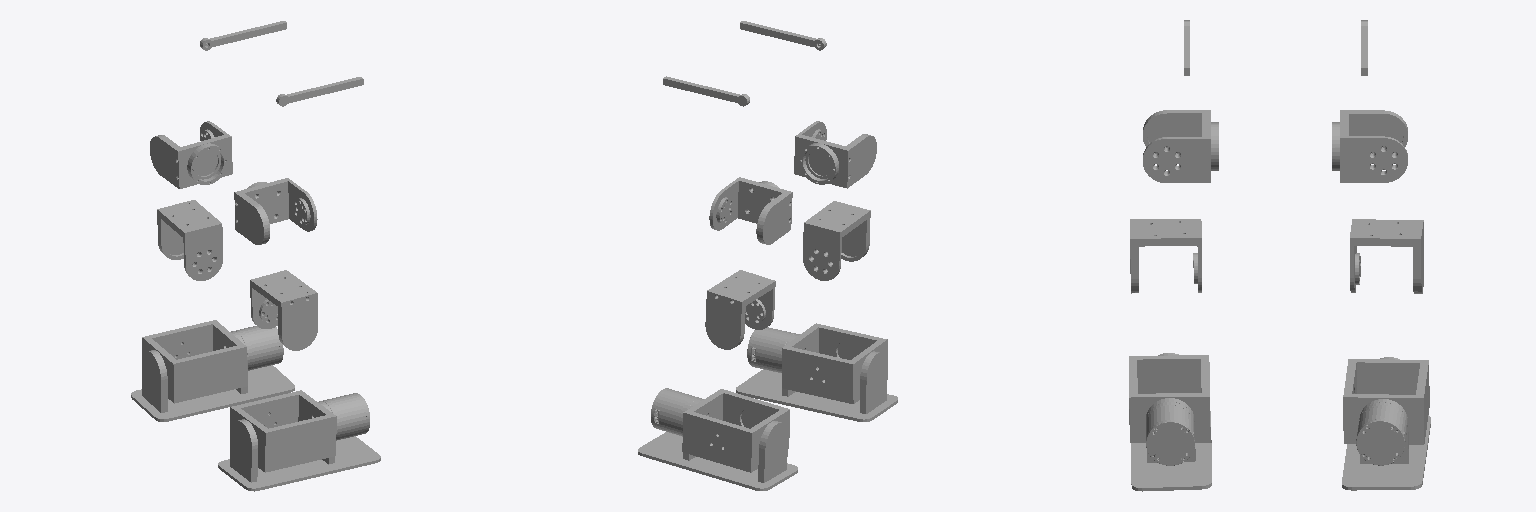
The robot description file, URDF, robot "123.SLDASM":
<?xml version="1.0" encoding="utf-8"?>
<!-- This URDF was automatically created by SolidWorks to URDF Exporter! Originally created by Stephen Brawner (brawner@gmail.com) 
     Commit Version: 1.6.0-4-g7f85cfe  Build Version: 1.6.7995.38578
     For more information, please see http://wiki.ros.org/sw_urdf_exporter -->
<robot
  name="123.SLDASM">
  <link
    name="base_link">
    <inertial>
      <origin
        xyz="0.00305344035948829 -0.00338745849691838 0.100965563427593"
        rpy="0 0 0" />
      <mass
        value="1.0657953 " />
      <inertia
        ixx=" 0.0041164"
        ixy="0.0002280"
        ixz="-0.0000224"
        iyy="0.0026705"
        iyz="-0.0000575"
        izz="0.0030287" />
    </inertial>
    <visual>
      <origin
        xyz="0 0 0"
        rpy="0 0 0" />
      <geometry>
        <mesh
          filename="package://123.SLDASM/meshes/base_link.STL" />
      </geometry>
      <material
        name="">
        <color
          rgba="0.698039215686274 0.698039215686274 0.698039215686274 1" />
      </material>
    </visual>
    <collision>
      <origin
        xyz="0 0 0"
        rpy="0 0 0" />
      <geometry>
        <mesh
          filename="package://123.SLDASM/meshes/base_link.STL" />
      </geometry>
    </collision>
  </link>
  <link
    name="r_leg_pitch_link">
    <inertial>
      <origin
        xyz="-0.00155494227550507 2.67600506309584E-07 0.0254526954337937"
        rpy="0 0 0" />
      <mass
        value="0.0410755" />
      <inertia
        ixx="0.0000214"
        ixy="0.0000000"
        ixz="0.0000003"
        iyy=" 0.0000398"
        iyz="0.0000000"
        izz="0.0000327" />
    </inertial>
    <visual>
      <origin
        xyz="0 0 0"
        rpy="0 0 0" />
      <geometry>
        <mesh
          filename="package://123.SLDASM/meshes/r_leg_pitch_link.STL" />
      </geometry>
      <material
        name="">
        <color
          rgba="0.698039215686274 0.698039215686274 0.698039215686274 1" />
      </material>
    </visual>
    <collision>
      <origin
        xyz="0 0 0"
        rpy="0 0 0" />
      <geometry>
        <mesh
          filename="package://123.SLDASM/meshes/r_leg_pitch_link.STL" />
      </geometry>
    </collision>
  </link>
  <joint
    name="r_leg_pitch_joint"
    type="revolute">
    <origin
      xyz="0 0.0524999999999998 0.0229999999999997"
      rpy="-1.5707963267949 -0.0393008918408269 0" />
    <parent
      link="base_link" />
    <child
      link="r_leg_pitch_link" />
    <axis
      xyz="0 0 1" />
    <limit
      lower="-0.785"
      upper="0.785"
      effort="5"
      velocity="10" />
  </joint>
  <link
    name="r_leg_roll_link">
    <inertial>
      <origin
        xyz="0.0271633882398319 0.000274769439934486 -0.0198820061824354"
        rpy="0 0 0" />
      <mass
        value="0.0875820 " />
      <inertia
        ixx="0.0000394"
        ixy="-0.0000003"
        ixz=" 0.0000040"
        iyy=" 0.0000834"
        iyz="0.0000001"
        izz="0.0000845" />
    </inertial>
    <visual>
      <origin
        xyz="0 0 0"
        rpy="0 0 0" />
      <geometry>
        <mesh
          filename="package://123.SLDASM/meshes/r_leg_roll_link.STL" />
      </geometry>
      <material
        name="">
        <color
          rgba="0.698039215686274 0.698039215686274 0.698039215686274 1" />
      </material>
    </visual>
    <collision>
      <origin
        xyz="0 0 0"
        rpy="0 0 0" />
      <geometry>
        <mesh
          filename="package://123.SLDASM/meshes/r_leg_roll_link.STL" />
      </geometry>
    </collision>
  </link>
  <joint
    name="r_leg_roll_joint"
    type="revolute">
    <origin
      xyz="0.0235499999995432 0 0.0495000000006334"
      rpy="1.5707963267949 0 1.5707963267949" />
    <parent
      link="r_leg_pitch_link" />
    <child
      link="r_leg_roll_link" />
    <axis
      xyz="0 0 1" />
    <limit
      lower="-0.1"
      upper="0.785"
      effort="5"
      velocity="10" />
  </joint>
  <link
    name="r_leg_yaw_link">
    <inertial>
      <origin
        xyz="2.93685066043992E-07 -0.00360651118457667 -0.0629558066513985"
        rpy="0 0 0" />
      <mass
        value="0.0374273" />
      <inertia
        ixx=" 0.0000373"
        ixy=" 0.0000000"
        ixz="  0.0000000"
        iyy=" 0.0000189"
        iyz=" -0.0000002"
        izz=" 0.0000311" />
    </inertial>
    <visual>
      <origin
        xyz="0 0 0"
        rpy="0 0 0" />
      <geometry>
        <mesh
          filename="package://123.SLDASM/meshes/r_leg_yaw_link.STL" />
      </geometry>
      <material
        name="">
        <color
          rgba="0.698039215686274 0.698039215686274 0.698039215686274 1" />
      </material>
    </visual>
    <collision>
      <origin
        xyz="0 0 0"
        rpy="0 0 0" />
      <geometry>
        <mesh
          filename="package://123.SLDASM/meshes/r_leg_yaw_link.STL" />
      </geometry>
    </collision>
  </link>
  <joint
    name="r_leg_yaw_joint"
    type="revolute">
    <origin
      xyz="0.0391985218465625 0.000340419361709143 -0.021750121446741"
      rpy="-1.57079632679491 1.51416024628277 1.57948060335854" />
    <parent
      link="r_leg_roll_link" />
    <child
      link="r_leg_yaw_link" />
    <axis
      xyz="0 0 1" />
    <limit
      lower="-0.785"
      upper="0.785"
      effort="5"
      velocity="10" />
  </joint>
  <link
    name="r_knee_pitch_link">
    <inertial>
      <origin
        xyz="0.00954002664046405 -0.0624980272767335 -0.0233034978058451"
        rpy="0 0 0" />
      <mass
        value="0.1422215" />
      <inertia
        ixx="0.0004728"
        ixy="0.0000613"
        ixz=" 0.0000009"
        iyy="0.0000821"
        iyz="-0.0000065"
        izz="0.0004658" />
    </inertial>
    <visual>
      <origin
        xyz="0 0 0"
        rpy="0 0 0" />
      <geometry>
        <mesh
          filename="package://123.SLDASM/meshes/r_knee_pitch_link.STL" />
      </geometry>
      <material
        name="">
        <color
          rgba="0.698039215686274 0.698039215686274 0.698039215686274 1" />
      </material>
    </visual>
    <collision>
      <origin
        xyz="0 0 0"
        rpy="0 0 0" />
      <geometry>
        <mesh
          filename="package://123.SLDASM/meshes/r_knee_pitch_link.STL" />
      </geometry>
    </collision>
  </link>
  <joint
    name="r_knee_pitch_joint"
    type="revolute">
    <origin
      xyz="0 0.0216500000001082 -0.0849999999999912"
      rpy="1.57078585839456 0.154400660281563 3.13854916595925" />
    <parent
      link="r_leg_yaw_link" />
    <child
      link="r_knee_pitch_link" />
    <axis
      xyz="0.00300727729212515 0.000457582548802386 0.999995373440047" />
    <limit
      lower="-0.785"
      upper="0.785"
      effort="5"
      velocity="10" />
  </joint>
  <link
    name="r_ankle_pitch_link">
    <inertial>
      <origin
        xyz="0.000819986668388673 0.000114188833970519 -0.0215175951614893"
        rpy="0 0 0" />
      <mass
        value=" 0.0821087 " />
      <inertia
        ixx=" 0.0000860"
        ixy=" -0.0000099"
        ixz=" 0.0000000"
        iyy=" 0.0001559"
        iyz=" 0.0000000"
        izz=" 0.0001052" />
    </inertial>
    <visual>
      <origin
        xyz="0 0 0"
        rpy="0 0 0" />
      <geometry>
        <mesh
          filename="package://123.SLDASM/meshes/r_ankle_pitch_link.STL" />
      </geometry>
      <material
        name="">
        <color
          rgba="0.698039215686274 0.698039215686274 0.698039215686274 1" />
      </material>
    </visual>
    <collision>
      <origin
        xyz="0 0 0"
        rpy="0 0 0" />
      <geometry>
        <mesh
          filename="package://123.SLDASM/meshes/r_ankle_pitch_link.STL" />
      </geometry>
    </collision>
  </link>
  <joint
    name="r_ankle_pitch_joint"
    type="revolute">
    <origin
      xyz="0.0204982868585911 -0.133930671624734 -0.000751085885703329"
      rpy="-0.000457743314945541 0.00300725767602795 -5.34539377118544E-05" />
    <parent
      link="r_knee_pitch_link" />
    <child
      link="r_ankle_pitch_link" />
    <axis
      xyz="0 0 -1" />
    <limit
      lower="-0.3925"
      upper="0.3925"
      effort="5"
      velocity="10" />
  </joint>
  <link
    name="r_ankle_roll_link">
    <inertial>
      <origin
        xyz="-0.00082803507708501 -0.0194152844057001 0.0259193272175632"
        rpy="0 0 0" />
      <mass
        value="0.0904008 " />
      <inertia
        ixx="0.0002946"
        ixy="-0.0000006"
        ixz=" 0.0000004"
        iyy=" 0.0002775"
        iyz=" 0.0000164"
        izz="0.0000684" />
    </inertial>
    <visual>
      <origin
        xyz="0 0 0"
        rpy="0 0 0" />
      <geometry>
        <mesh
          filename="package://123.SLDASM/meshes/r_ankle_roll_link.STL" />
      </geometry>
      <material
        name="">
        <color
          rgba="0.698039215686274 0.698039215686274 0.698039215686274 1" />
      </material>
    </visual>
    <collision>
      <origin
        xyz="0 0 0"
        rpy="0 0 0" />
      <geometry>
        <mesh
          filename="package://123.SLDASM/meshes/r_ankle_roll_link.STL" />
      </geometry>
    </collision>
  </link>
  <joint
    name="r_ankle_roll_joint"
    type="revolute">
    <origin
      xyz="0.0524962795835249 0.00728697513976995 -0.0209911901374402"
      rpy="-1.5707964069593 -1.55331494895554 1.70872482632556" />
    <parent
      link="r_ankle_pitch_link" />
    <child
      link="r_ankle_roll_link" />
    <axis
      xyz="0 0 0.999999999999998" />
    <limit
      lower="-0.262"
      upper="0.262"
      effort="5"
      velocity="10" />
  </joint>
  <link
    name="l_leg_pitch_link">
    <inertial>
      <origin
        xyz="-0.00155441352441105 -4.05485073302625E-05 0.0260526954337954"
        rpy="0 0 0" />
      <mass
        value="0.0410755" />
      <inertia
        ixx="0.0000214"
        ixy="-0.0000005"
        ixz="0.0000003"
        iyy=" 0.0000398"
        iyz="0.0000000"
        izz=" 0.0000327" />
    </inertial>
    <visual>
      <origin
        xyz="0 0 0"
        rpy="0 0 0" />
      <geometry>
        <mesh
          filename="package://123.SLDASM/meshes/l_leg_pitch_link.STL" />
      </geometry>
      <material
        name="">
        <color
          rgba="0.698039215686274 0.698039215686274 0.698039215686274 1" />
      </material>
    </visual>
    <collision>
      <origin
        xyz="0 0 0"
        rpy="0 0 0" />
      <geometry>
        <mesh
          filename="package://123.SLDASM/meshes/l_leg_pitch_link.STL" />
      </geometry>
    </collision>
  </link>
  <joint
    name="l_leg_pitch_joint"
    type="revolute">
    <origin
      xyz="0 -0.0518999999999998 0.0229999999999992"
      rpy="1.5707963267949 0 0" />
    <parent
      link="base_link" />
    <child
      link="l_leg_pitch_link" />
    <axis
      xyz="0 0 1" />
    <limit
      lower="-0.785"
      upper="0.785"
      effort="5"
      velocity="10" />
  </joint>
  <link
    name="l_leg_roll_link">
    <inertial>
      <origin
        xyz="0.0250733785390411 -9.29664520388021E-05 -0.0322609967603088"
        rpy="0 0 0" />
      <mass
        value=" 0.0962650" />
      <inertia
        ixx=" 0.0000465"
        ixy="-0.0000001"
        ixz="-0.0000020"
        iyy=" 0.0000956"
        iyz=" 0.0000000"
        izz="0.0000918" />
    </inertial>
    <visual>
      <origin
        xyz="0 0 0"
        rpy="0 0 0" />
      <geometry>
        <mesh
          filename="package://123.SLDASM/meshes/l_leg_roll_link.STL" />
      </geometry>
      <material
        name="">
        <color
          rgba="0.698039215686274 0.698039215686274 0.698039215686274 1" />
      </material>
    </visual>
    <collision>
      <origin
        xyz="0 0 0"
        rpy="0 0 0" />
      <geometry>
        <mesh
          filename="package://123.SLDASM/meshes/l_leg_roll_link.STL" />
      </geometry>
    </collision>
  </link>
  <joint
    name="l_leg_roll_joint"
    type="revolute">
    <origin
      xyz="0.033638405225641 0.000883285869147155 0.0500999999999991"
      rpy="-1.56780034783654 0.00981838513450924 -1.54922410438872" />
    <parent
      link="l_leg_pitch_link" />
    <child
      link="l_leg_roll_link" />
    <axis
      xyz="-0.00467975881575616 0.00304189061164272 0.999984423258149" />
    <limit
      lower="-0.785"
      upper="0.1"
      effort="5"
      velocity="10" />
  </joint>
  <link
    name="l_leg_yaw_link">
    <inertial>
      <origin
        xyz="2.93684888463819E-07 -0.00360651118481124 -0.0629558066516022"
        rpy="0 0 0" />
      <mass
        value="0.0374273" />
      <inertia
        ixx="0.0000373"
        ixy="0.0000000"
        ixz="0.0000000"
        iyy="0.0000189"
        iyz="-0.0000002"
        izz="0.0000311" />
    </inertial>
    <visual>
      <origin
        xyz="0 0 0"
        rpy="0 0 0" />
      <geometry>
        <mesh
          filename="package://123.SLDASM/meshes/l_leg_yaw_link.STL" />
      </geometry>
      <material
        name="">
        <color
          rgba="0.698039215686274 0.698039215686274 0.698039215686274 1" />
      </material>
    </visual>
    <collision>
      <origin
        xyz="0 0 0"
        rpy="0 0 0" />
      <geometry>
        <mesh
          filename="package://123.SLDASM/meshes/l_leg_yaw_link.STL" />
      </geometry>
    </collision>
  </link>
  <joint
    name="l_leg_yaw_joint"
    type="revolute">
    <origin
      xyz="0.0393486216382534 -9.57685245502812E-05 -0.0316661813274323"
      rpy="-1.97118522160694 -1.55878994316297 1.97118782106314" />
    <parent
      link="l_leg_roll_link" />
    <child
      link="l_leg_yaw_link" />
    <axis
      xyz="0 0 1" />
    <limit
      lower="-0.785"
      upper="0.785"
      effort="5"
      velocity="10" />
  </joint>
  <link
    name="l_knee_pitch_link">
    <inertial>
      <origin
        xyz="0.000223058886779648 0.0631960928021255 -0.0209543011073128"
        rpy="0 0 0" />
      <mass
        value="0.1422215" />
      <inertia
        ixx="0.0004830"
        ixy="-0.0000007"
        ixz="0.0000001"
        iyy="0.0000730"
        iyz="-0.0000139"
        izz="0.0004662" />
    </inertial>
    <visual>
      <origin
        xyz="0 0 0"
        rpy="0 0 0" />
      <geometry>
        <mesh
          filename="package://123.SLDASM/meshes/l_knee_pitch_link.STL" />
      </geometry>
      <material
        name="">
        <color
          rgba="0.698039215686274 0.698039215686274 0.698039215686274 1" />
      </material>
    </visual>
    <collision>
      <origin
        xyz="0 0 0"
        rpy="0 0 0" />
      <geometry>
        <mesh
          filename="package://123.SLDASM/meshes/l_knee_pitch_link.STL" />
      </geometry>
    </collision>
  </link>
  <joint
    name="l_knee_pitch_joint"
    type="revolute">
    <origin
      xyz="0 0.0216499999940361 -0.0850000000002199"
      rpy="-1.57101423069705 0.0262509545334114 -0.00827303083234919" />
    <parent
      link="l_leg_yaw_link" />
    <child
      link="l_knee_pitch_link" />
    <axis
      xyz="-0.00827008613202989 0 0.999965802252661" />
    <limit
      lower="-0.785"
      upper="0.785"
      effort="5"
      velocity="10" />
  </joint>
  <link
    name="l_ankle_pitch_link">
    <inertial>
      <origin
        xyz="0.000649854553365525 -1.02985360475039E-05 -0.0215237055769109"
        rpy="0 0 0" />
      <mass
        value="0.0821087 " />
      <inertia
        ixx="0.0000846"
        ixy="0.0000009"
        ixz="0.0000001"
        iyy="0.0001573"
        iyz="0.0000000"
        izz="0.0001052" />
    </inertial>
    <visual>
      <origin
        xyz="0 0 0"
        rpy="0 0 0" />
      <geometry>
        <mesh
          filename="package://123.SLDASM/meshes/l_ankle_pitch_link.STL" />
      </geometry>
      <material
        name="">
        <color
          rgba="0.698039215686274 0.698039215686274 0.698039215686274 1" />
      </material>
    </visual>
    <collision>
      <origin
        xyz="0 0 0"
        rpy="0 0 0" />
      <geometry>
        <mesh
          filename="package://123.SLDASM/meshes/l_ankle_pitch_link.STL" />
      </geometry>
    </collision>
  </link>
  <joint
    name="l_ankle_pitch_joint"
    type="revolute">
    <origin
      xyz="0.000466929106528902 0.135490194438806 -0.0427232843421968"
      rpy="-3.14159190465259 0 0" />
    <parent
      link="l_knee_pitch_link" />
    <child
      link="l_ankle_pitch_link" />
    <axis
      xyz="-0.00827008613202766 0 -0.999965802252941" />
    <limit
      lower="-0.3925"
      upper="0.3925"
      effort="5"
      velocity="10" />
  </joint>
  <link
    name="l_ankle_roll_link">
    <inertial>
      <origin
        xyz="-0.000656421284271423 -0.0194218442340999 0.0259193307122304"
        rpy="0 0 0" />
      <mass
        value="0.0904008" />
      <inertia
        ixx="0.0002946"
        ixy="-0.0000005"
        ixz="0.0000003"
        iyy="0.0002775"
        iyz="0.0000164"
        izz="0.0000684" />
    </inertial>
    <visual>
      <origin
        xyz="0 0 0"
        rpy="0 0 0" />
      <geometry>
        <mesh
          filename="package://123.SLDASM/meshes/l_ankle_roll_link.STL" />
      </geometry>
      <material
        name="">
        <color
          rgba="0.698039215686274 0.698039215686274 0.698039215686274 1" />
      </material>
    </visual>
    <collision>
      <origin
        xyz="0 0 0"
        rpy="0 0 0" />
      <geometry>
        <mesh
          filename="package://123.SLDASM/meshes/l_ankle_roll_link.STL" />
      </geometry>
    </collision>
  </link>
  <joint
    name="l_ankle_roll_joint"
    type="revolute">
    <origin
      xyz="0.0528198102252229 -0.000682550893835621 -0.0214287473323613"
      rpy="-0.81362548088841 -1.55875675223453 0.800782870748655" />
    <parent
      link="l_ankle_pitch_link" />
    <child
      link="l_ankle_roll_link" />
    <axis
      xyz="0 0 0.999999999999998" />
    <limit
      lower="-0.262"
      upper="0.262"
      effort="5"
      velocity="10" />
  </joint>
  <link
    name="r_shoulder_link">
    <inertial>
      <origin
        xyz="0.0459889736418041 -2.77555756156289E-17 0.00362038995752062"
        rpy="0 0 0" />
      <mass
        value="0.0040295 " />
      <inertia
        ixx="0.0000000"
        ixy="0.0000000"
        ixz="0.0000000"
        iyy="0.0000039"
        iyz="0.0000000"
        izz="0.0000039" />
    </inertial>
    <visual>
      <origin
        xyz="0 0 0"
        rpy="0 0 0" />
      <geometry>
        <mesh
          filename="package://123.SLDASM/meshes/r_shoulder_link.STL" />
      </geometry>
      <material
        name="">
        <color
          rgba="0.698039215686274 0.698039215686274 0.698039215686274 1" />
      </material>
    </visual>
    <collision>
      <origin
        xyz="0 0 0"
        rpy="0 0 0" />
      <geometry>
        <mesh
          filename="package://123.SLDASM/meshes/r_shoulder_link.STL" />
      </geometry>
    </collision>
  </link>
  <joint
    name="r_shoulder_joint"
    type="revolute">
    <origin
      xyz="0.0140000000000001 0.0801639287517531 0.15355"
      rpy="-1.5707963267949 0 0" />
    <parent
      link="base_link" />
    <child
      link="r_shoulder_link" />
    <axis
      xyz="0 0 1" />
    <limit
      lower="-1.57"
      upper="1.57"
      effort="2"
      velocity="10" />
  </joint>
  <link
    name="L_shoulder_link">
    <inertial>
      <origin
        xyz="0.045680589904211 0.00531689783895306 0.00362038995752069"
        rpy="0 0 0" />
      <mass
        value=" 0.0040295" />
      <inertia
        ixx="0.0000001"
        ixy="-0.0000004"
        ixz="0.0000000"
        iyy="0.0000038"
        iyz="0.0000000"
        izz="0.0000039" />
    </inertial>
    <visual>
      <origin
        xyz="0 0 0"
        rpy="0 0 0" />
      <geometry>
        <mesh
          filename="package://123.SLDASM/meshes/L_shoulder_link.STL" />
      </geometry>
      <material
        name="">
        <color
          rgba="0.698039215686274 0.698039215686274 0.698039215686274 1" />
      </material>
    </visual>
    <collision>
      <origin
        xyz="0 0 0"
        rpy="0 0 0" />
      <geometry>
        <mesh
          filename="package://123.SLDASM/meshes/L_shoulder_link.STL" />
      </geometry>
    </collision>
  </link>
  <joint
    name="L_shoulder_joint"
    type="revolute">
    <origin
      xyz="0.014 -0.0795360712482468 0.15355"
      rpy="1.5707963267949 0.115871560473536 0" />
    <parent
      link="base_link" />
    <child
      link="L_shoulder_link" />
    <axis
      xyz="0 0 1" />
    <limit
      lower="-1.57"
      upper="1.57"
      effort="2"
      velocity="10" />
  </joint>
</robot>

--- Render facts (derived) ---
The picture shows the robot from 3 angles, left to right: view 1: azimuth 30°, elevation 25°; view 2: azimuth 150°, elevation 25°; view 3: azimuth 270°, elevation 25°; orthographic projection.
Model 123.SLDASM with 15 links and 14 joints (14 revolute), rooted at base_link, posed all joints at 0.
Links seen in each view (by area): view 1: r_ankle_pitch_link, r_ankle_roll_link, l_ankle_roll_link, l_ankle_pitch_link, l_leg_yaw_link, r_leg_yaw_link, l_leg_pitch_link, r_leg_pitch_link, L_shoulder_link, r_shoulder_link; view 2: r_ankle_pitch_link, l_ankle_pitch_link, l_ankle_roll_link, r_ankle_roll_link, r_leg_yaw_link, l_leg_yaw_link, l_leg_pitch_link, r_leg_pitch_link, r_shoulder_link, L_shoulder_link; view 3: r_ankle_roll_link, l_ankle_roll_link, l_leg_pitch_link, r_leg_pitch_link, l_ankle_pitch_link, r_ankle_pitch_link, r_leg_yaw_link, l_leg_yaw_link.
Boxes of the visible links, x1,y1,x2,y2 form: r_ankle_pitch_link: [142, 320, 247, 403]; r_ankle_roll_link: [131, 326, 294, 421]; l_ankle_roll_link: [218, 393, 380, 491]; l_ankle_pitch_link: [230, 390, 336, 472]; l_leg_yaw_link: [250, 270, 317, 350]; r_leg_yaw_link: [157, 200, 222, 280]; l_leg_pitch_link: [234, 178, 317, 244]; r_leg_pitch_link: [150, 121, 232, 188]; L_shoulder_link: [276, 77, 363, 106]; r_shoulder_link: [200, 21, 286, 50]; r_ankle_pitch_link: [682, 389, 789, 472]; l_ankle_pitch_link: [782, 323, 887, 403]; l_ankle_roll_link: [736, 327, 897, 421]; r_ankle_roll_link: [638, 388, 797, 490]; r_leg_yaw_link: [705, 270, 775, 349]; l_leg_yaw_link: [803, 201, 870, 280]; l_leg_pitch_link: [794, 121, 876, 188]; r_leg_pitch_link: [709, 177, 792, 244]; r_shoulder_link: [663, 76, 749, 106]; L_shoulder_link: [740, 21, 826, 50]; r_ankle_roll_link: [1342, 357, 1430, 490]; l_ankle_roll_link: [1131, 353, 1211, 491]; l_leg_pitch_link: [1143, 110, 1218, 182]; r_leg_pitch_link: [1332, 110, 1407, 182]; l_ankle_pitch_link: [1129, 355, 1210, 442]; r_ankle_pitch_link: [1343, 359, 1429, 444]; r_leg_yaw_link: [1350, 219, 1423, 293]; l_leg_yaw_link: [1130, 219, 1201, 293].
Bounding box of the posed robot: 0.1797 × 0.2848 × 0.4428 m (x, y, z).
10 mesh visuals loaded from 15 distinct referenced files (10 binary STL); not drawn: 5 (reference not matched to a file when rendering).
